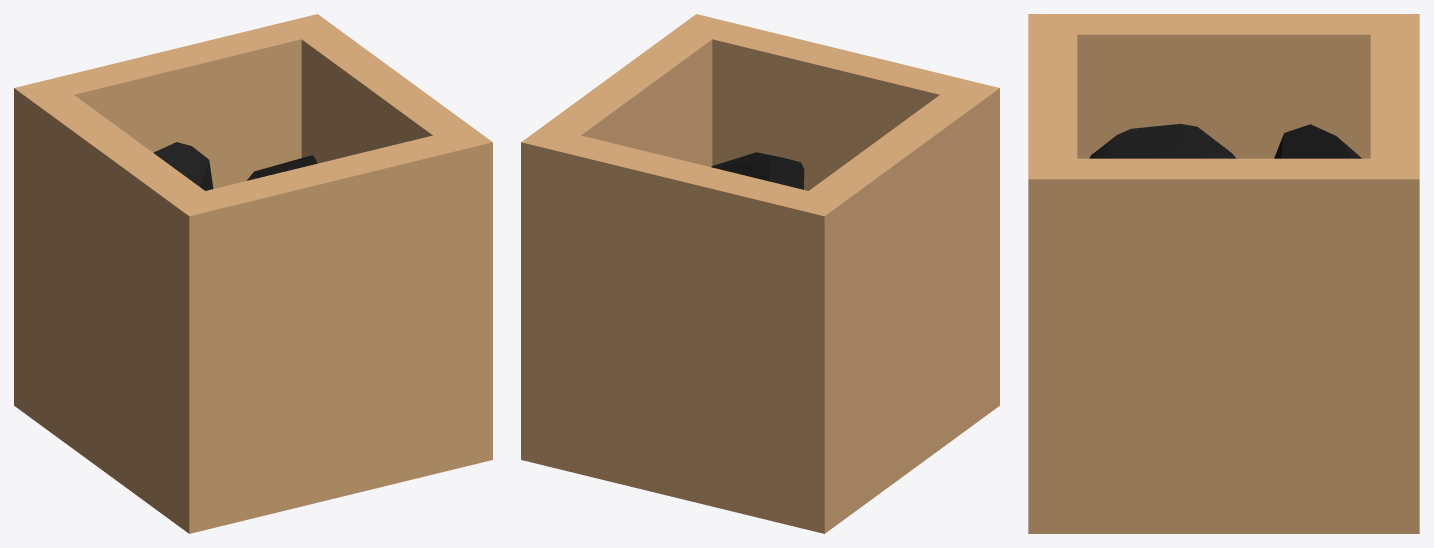
Rendered from coal_01.fbx.
3 renders of one model, left to right at view 1: azimuth 30°, elevation 25°; view 2: azimuth 150°, elevation 25°; view 3: azimuth 270°, elevation 25°, orthographic. The views are drawn at different scales.
Parts seen in each view (by area): view 1: coal; view 2: coal; view 3: coal.
Boxes of the visible parts, x1,y1,x2,y2 form: coal: [14, 14, 492, 533]; coal: [521, 14, 999, 533]; coal: [1028, 14, 1419, 533].
Size of the model in its own units: 1 by 1 by 1.
